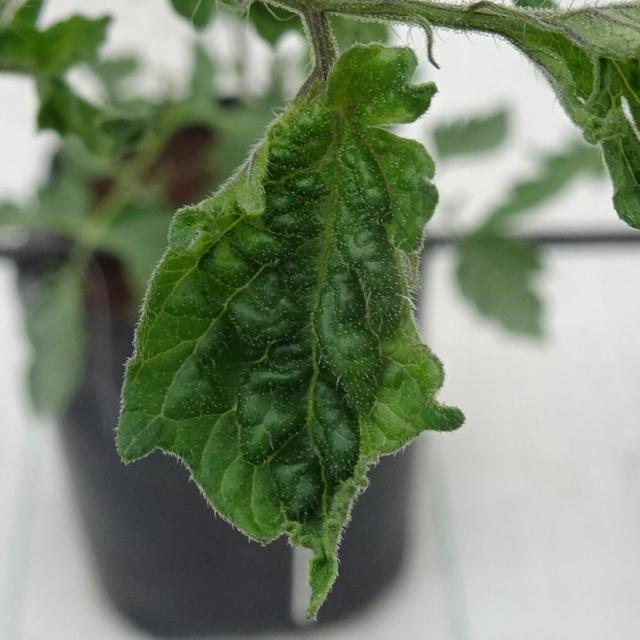T_L_R: (114, 44, 467, 627)
